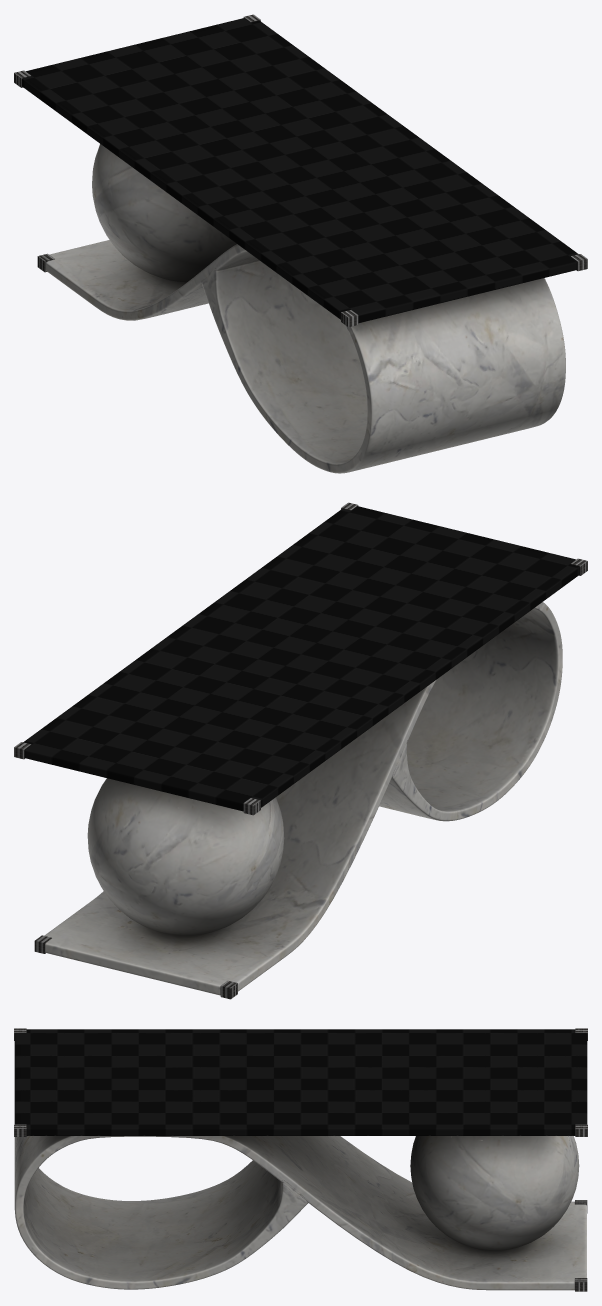
File: fancy_table.glb
The picture shows the model from 3 angles, top to bottom: view 1: azimuth 30°, elevation 25°; view 2: azimuth 150°, elevation 25°; view 3: azimuth 270°, elevation 25°; orthographic projection. The views are drawn at different scales.
Parts seen in each view (by area): view 1: Object_2, Object_3; view 2: Object_2, Object_3; view 3: Object_2, Object_3.
Part boxes in pixels (bbox=[...]): Object_2: bbox=[14, 14, 587, 327]; Object_3: bbox=[45, 240, 565, 473]; Object_2: bbox=[14, 502, 587, 999]; Object_3: bbox=[44, 602, 562, 995]; Object_2: bbox=[14, 1028, 587, 1291]; Object_3: bbox=[14, 1136, 586, 1290].
Size of the model in its own units: 92.67 by 73.79 by 224.
Materials: 1 (1 with a texture image).
